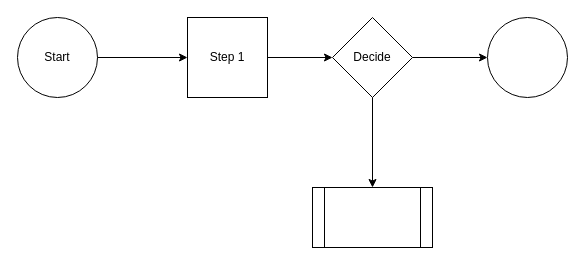
This 585x265 diagram has some shape labels left out. The shapes that lost their labels are listed below. From the top down, each one's centre as x and y in pixels, then its label:
At (x=527, y=57): "End".
At (x=372, y=217): "Process 2".
